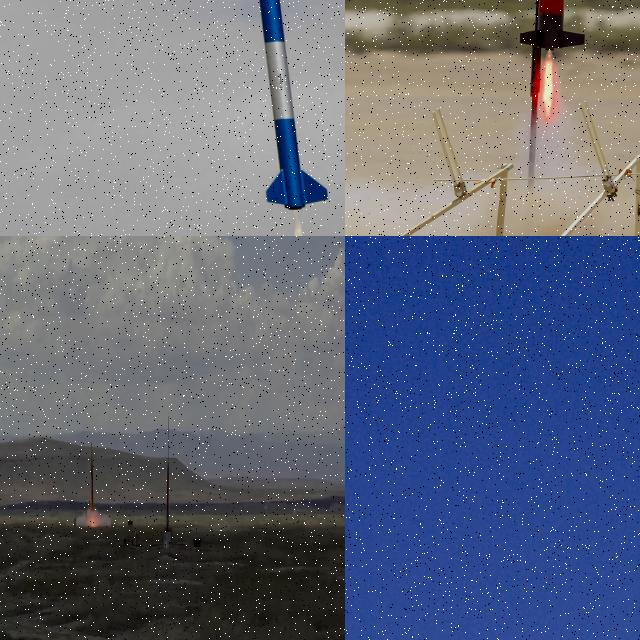Rocket: (252, 0, 330, 210), (518, 0, 588, 51), (90, 442, 94, 518), (167, 462, 170, 524)
